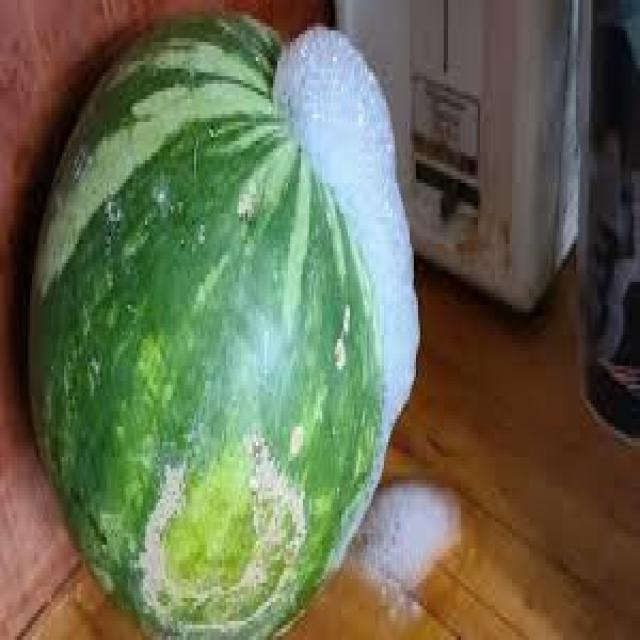Watermelon: (47, 60, 382, 634)
